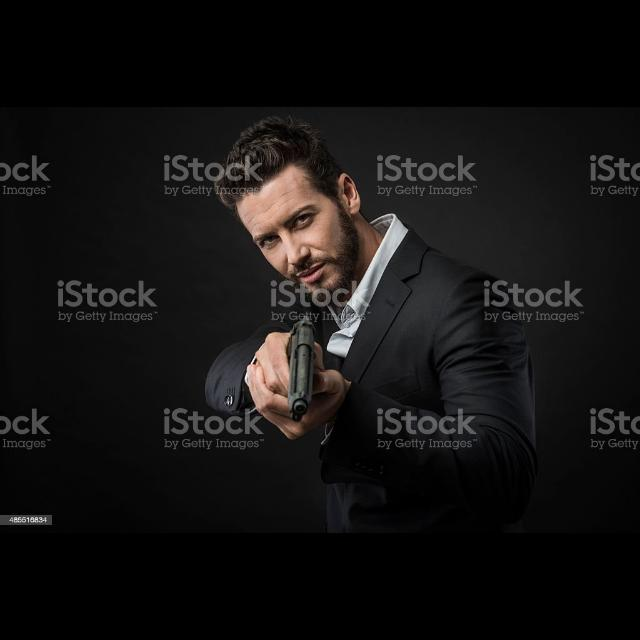handgun: (277, 314, 321, 426)
